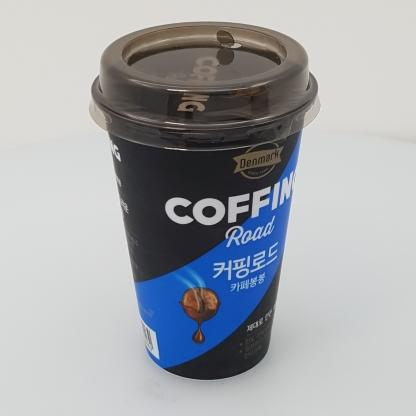---------: (89, 21, 320, 381)
